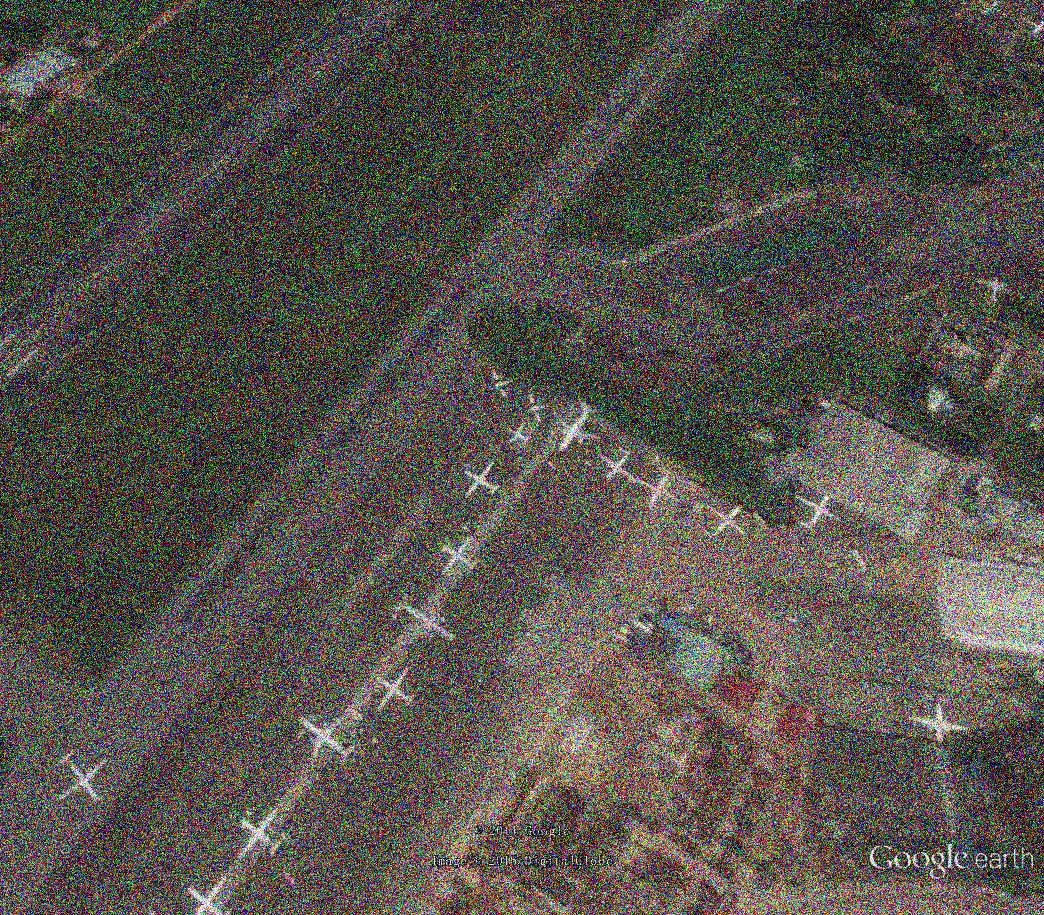aircraft: (904, 688, 976, 749), (390, 590, 461, 647), (296, 709, 357, 768), (550, 398, 606, 458), (56, 751, 109, 806), (237, 805, 285, 865), (702, 497, 757, 548), (792, 492, 847, 537), (632, 463, 683, 511), (376, 665, 423, 713), (185, 875, 233, 915), (461, 458, 504, 502), (439, 533, 483, 575), (971, 271, 1021, 305), (597, 446, 638, 487), (521, 390, 552, 428), (487, 367, 518, 401), (503, 419, 535, 450)
